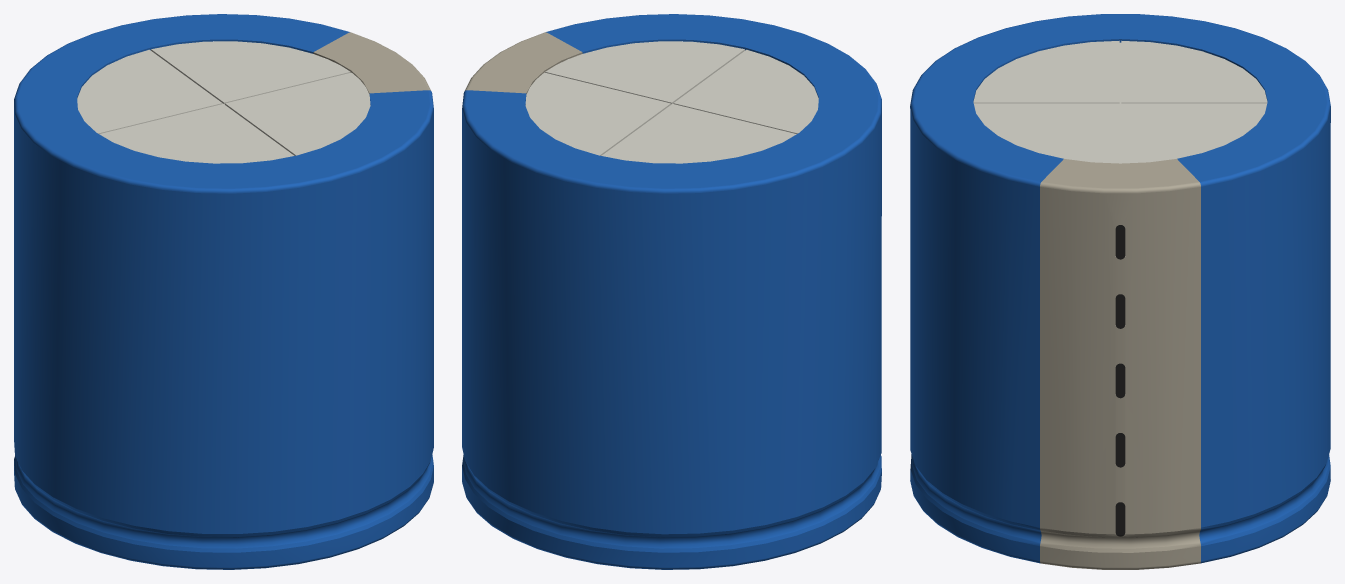
Rendered from kc-cp_radial_d22.0mm_p10.00mm_snapin.glb.
3 views of the same model, side by side, from view 1: azimuth 30°, elevation 25°; view 2: azimuth 150°, elevation 25°; view 3: azimuth 270°, elevation 25° (orthographic).
Parts seen in each view (by area): view 1: 0_0.16666666666666666_0.5_0, 0.6666666666666666_0.6666666666666666_0.5833333333333334_0.8, 0.4166666666666667_0.4166666666666667_0.3333333333333333_0; view 2: 0_0.16666666666666666_0.5_0, 0.6666666666666666_0.6666666666666666_0.5833333333333334_0.8, 0.4166666666666667_0.4166666666666667_0.3333333333333333_0; view 3: 0_0.16666666666666666_0.5_0, 0.4166666666666667_0.4166666666666667_0.3333333333333333_0, 0.6666666666666666_0.6666666666666666_0.5833333333333334_0.8, 0_0_0_0.
Boxes of the visible parts, x1,y1,x2,y2 form: 0_0.16666666666666666_0.5_0: (14,14,433,569); 0.6666666666666666_0.6666666666666666_0.5833333333333334_0.8: (77,41,370,163); 0.4166666666666667_0.4166666666666667_0.3333333333333333_0: (313,32,430,94); 0_0.16666666666666666_0.5_0: (462,14,881,569); 0.6666666666666666_0.6666666666666666_0.5833333333333334_0.8: (525,41,818,163); 0.4166666666666667_0.4166666666666667_0.3333333333333333_0: (465,32,582,94); 0_0.16666666666666666_0.5_0: (910,14,1330,563); 0.4166666666666667_0.4166666666666667_0.3333333333333333_0: (1040,159,1200,569); 0.6666666666666666_0.6666666666666666_0.5833333333333334_0.8: (973,41,1267,163); 0_0_0_0: (1115,225,1125,536).
Bounding box in the file's own units: 2.2 × 2.4 × 2.2.
